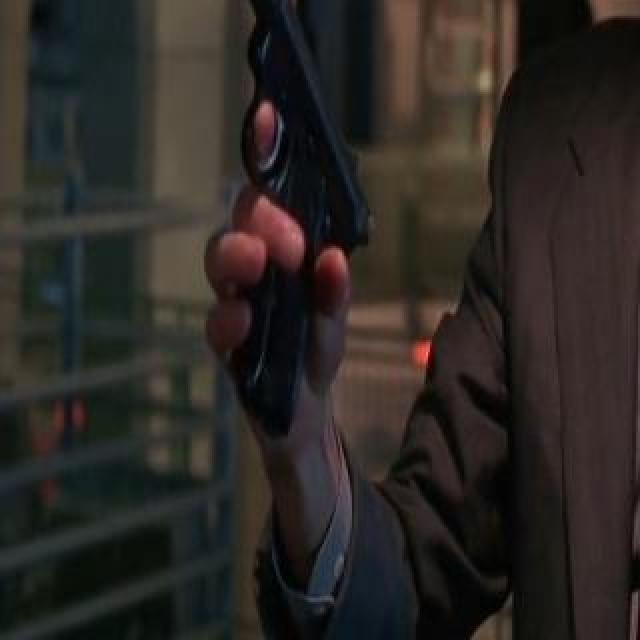Guns: (140, 0, 410, 434)
